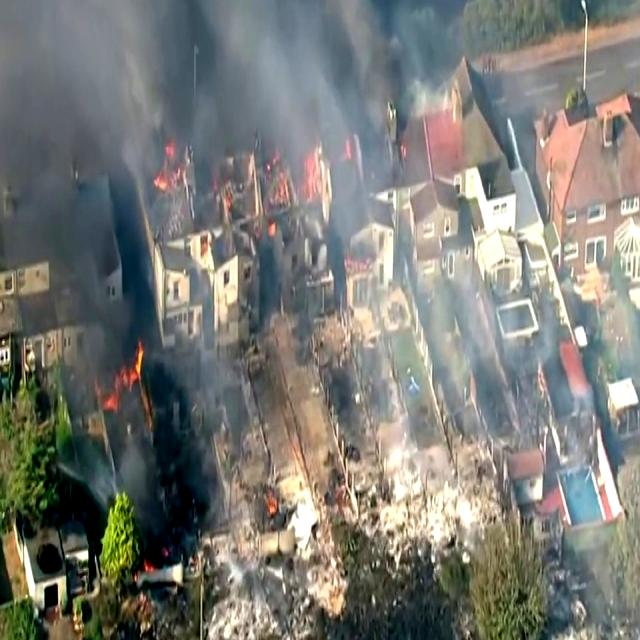smoke: (91, 0, 320, 142), (0, 0, 201, 98)
